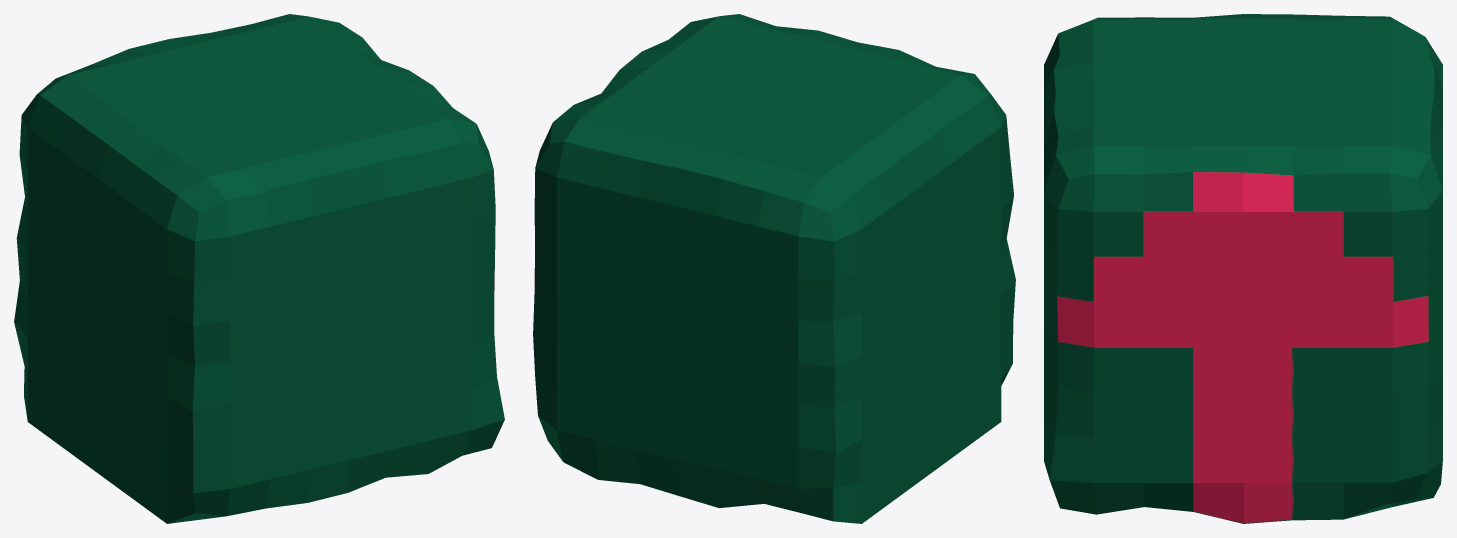
File: jumpBlock.obj
3 views of the same model, side by side, from view 1: azimuth 30°, elevation 25°; view 2: azimuth 150°, elevation 25°; view 3: azimuth 270°, elevation 25° (orthographic). The views are drawn at different scales.
Visible parts, largest first — view 1: 立方体.001; view 2: 立方体.001; view 3: 立方体.001.
Boxes of the visible parts, x1,y1,x2,y2 form: 立方体.001: (14, 14, 504, 523); 立方体.001: (533, 14, 1015, 523); 立方体.001: (1044, 14, 1442, 523).
Size of the model in its own units: 1 by 1 by 1.
Materials: 1 (1 with a texture image).
